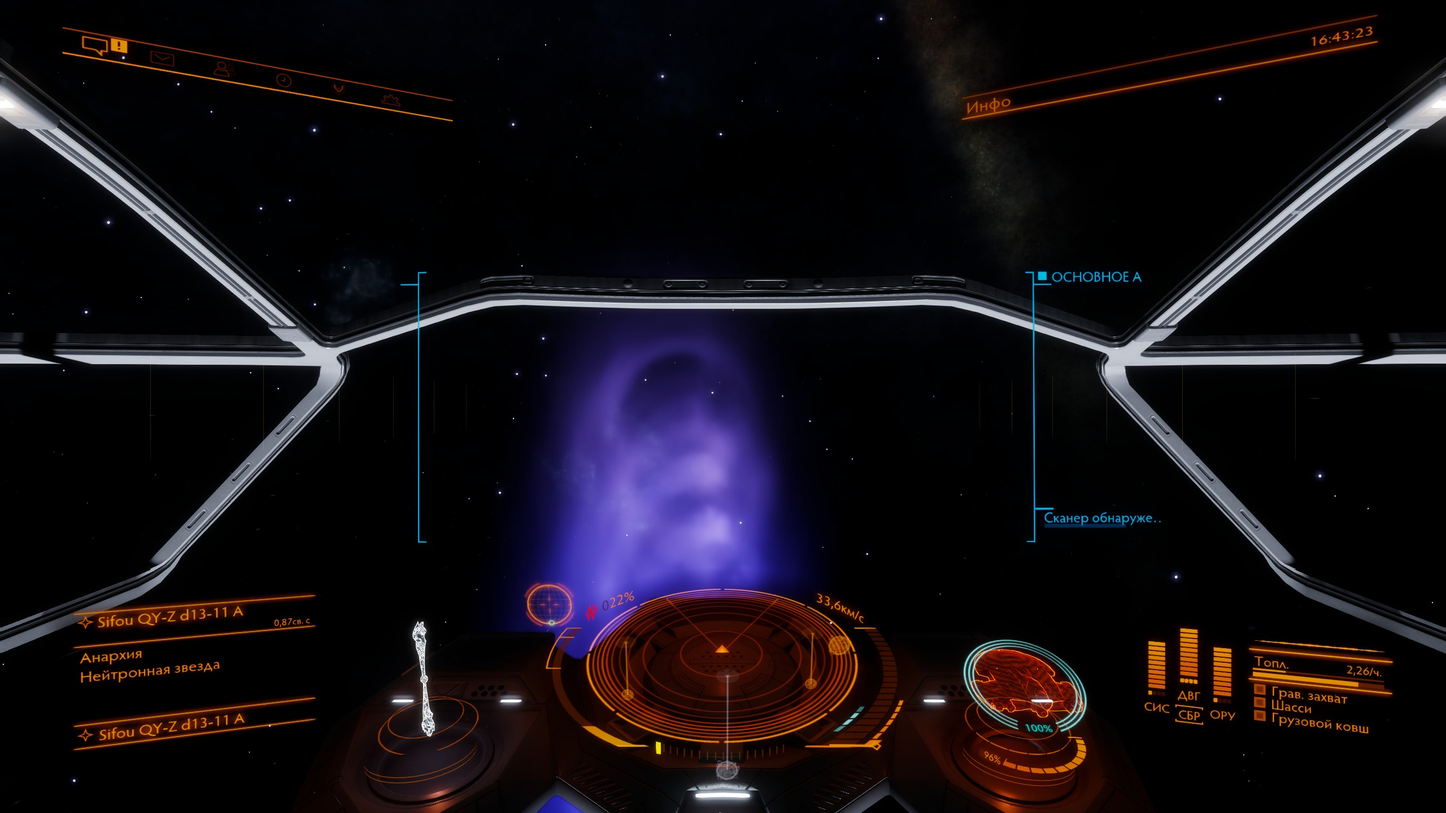jetcone: (1152, 120, 1410, 325), (570, 432, 756, 635)
